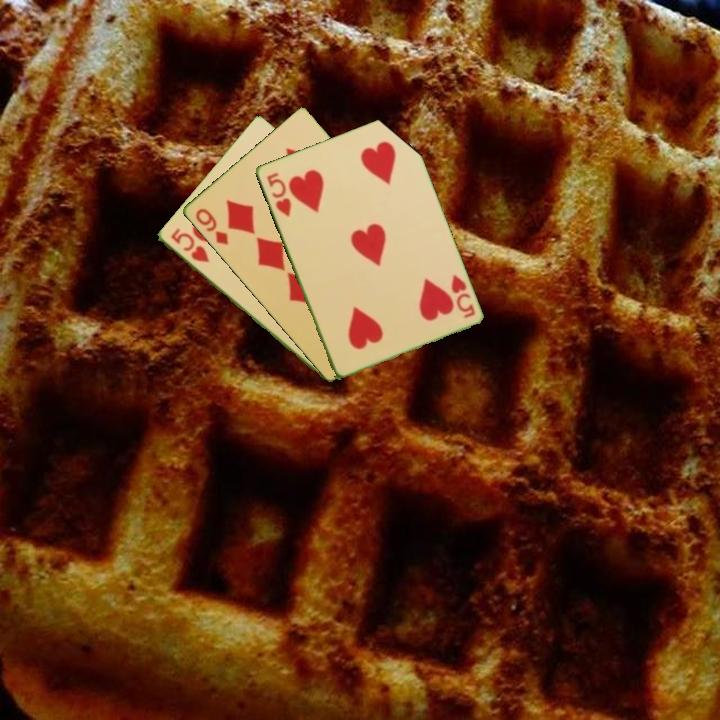5h: (167, 225, 212, 265), (263, 169, 294, 219), (447, 271, 478, 321)
9d: (192, 205, 231, 248)
